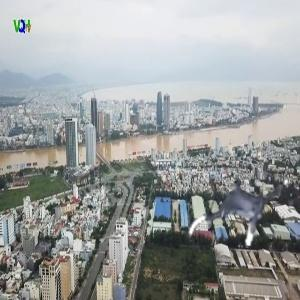drone: (187, 164, 289, 266)
